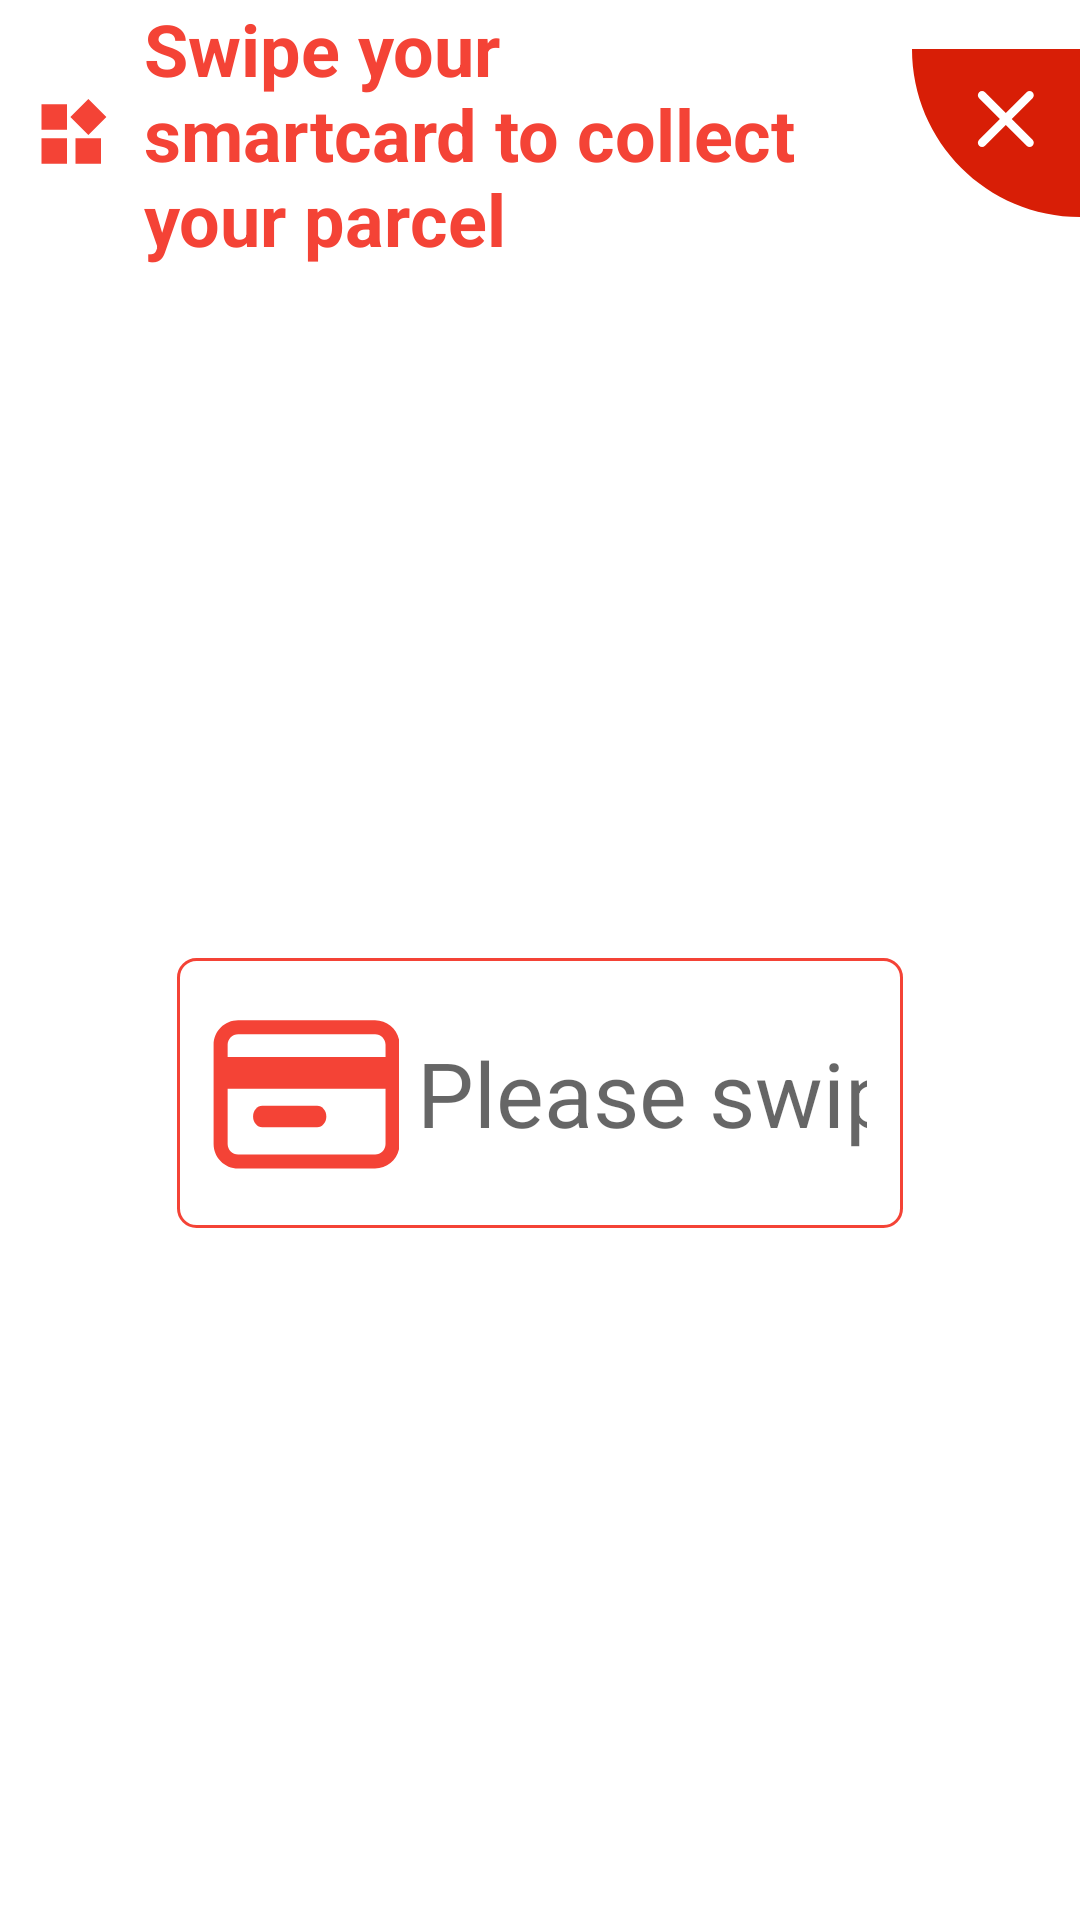

Point at icon controls on the screen. Image size 1080px×1920px, points as point (x, y).
close: point (996, 133)
